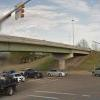Bridge: (2, 29, 88, 68)
